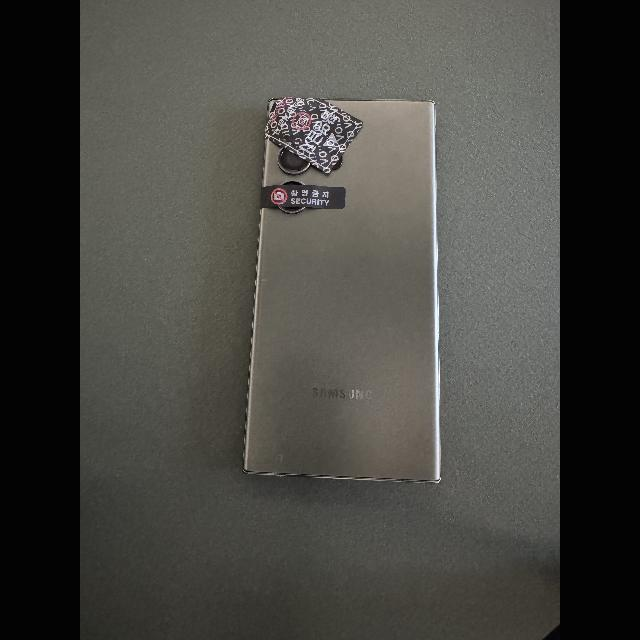lens: (280, 149, 308, 173), (280, 181, 304, 187)
phone: (243, 97, 440, 483)
sticker: (264, 97, 365, 175), (261, 186, 346, 209)
